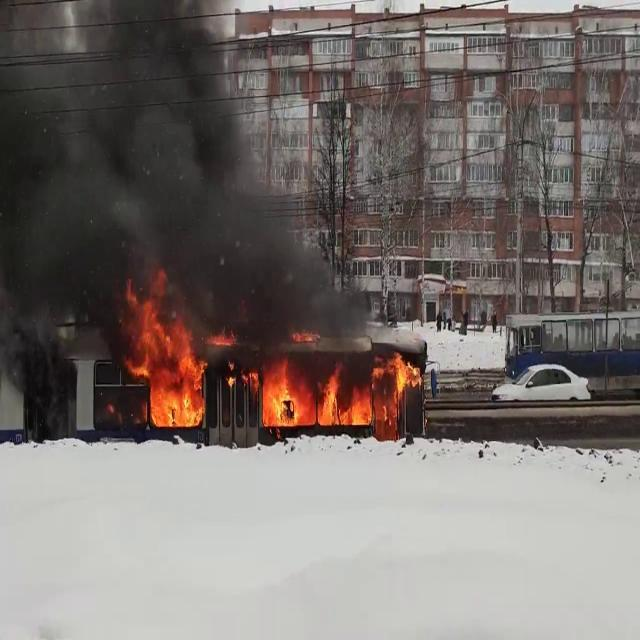Fire: (257, 344, 423, 434), (122, 287, 208, 427)
Smoke: (0, 0, 358, 339)
